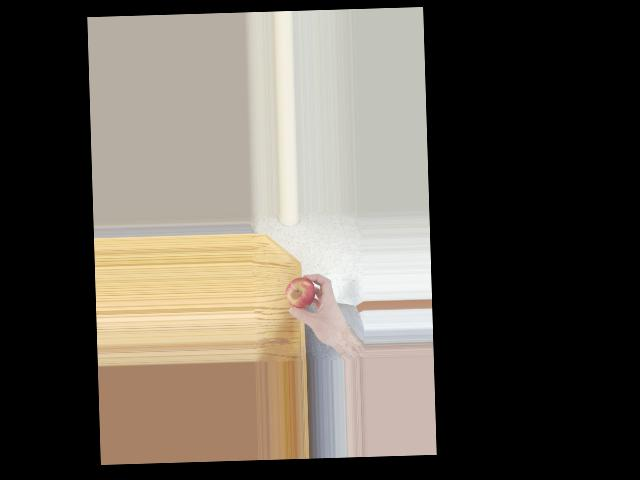apple: (285, 275, 317, 313)
